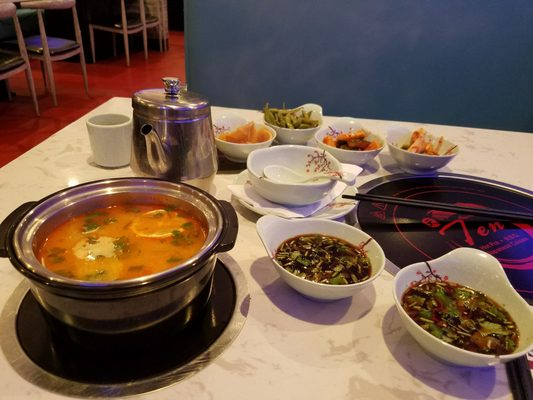pizza: (85, 112, 133, 169)
sushi: (2, 178, 234, 335), (393, 248, 533, 369), (255, 216, 386, 301), (245, 144, 344, 206), (313, 123, 387, 171), (385, 125, 460, 172), (213, 122, 277, 164), (263, 103, 325, 145)
